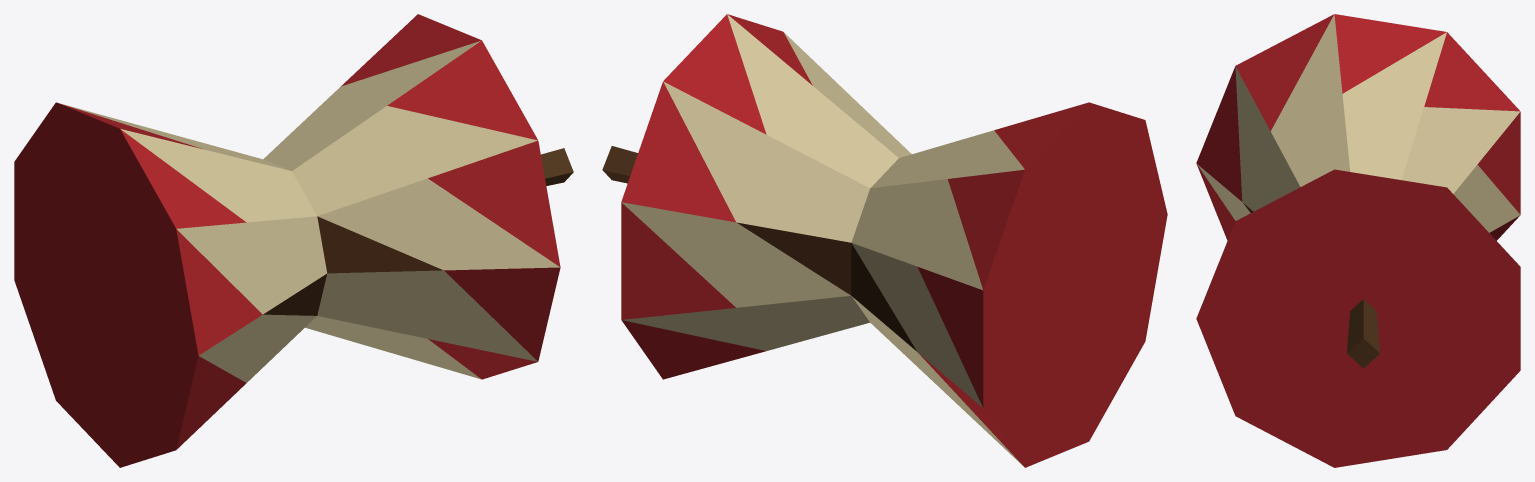
File: food-apple.glb
3 renders of one model, left to right at view 1: azimuth 30°, elevation 25°; view 2: azimuth 150°, elevation 25°; view 3: azimuth 270°, elevation 25°, orthographic. The views are drawn at different scales.
Bounding box in the file's own units: 2.8 × 1.97 × 1.94.
